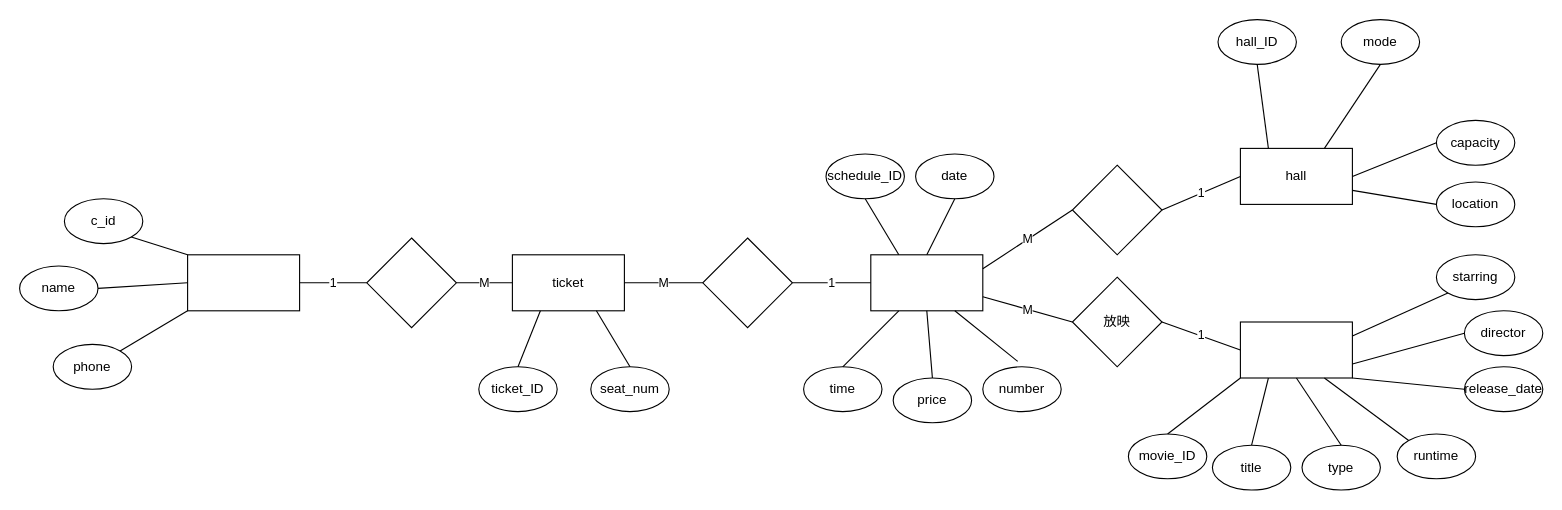
The diagram is 1562 pixels wide and 510 high, and some of its shapes have lost their labels. The centre of each missing label's shape, as x and y in pixels:
"Customer" goes at point 243,282.
"movie" goes at point 1295,349.
"schedule" goes at point 926,282.
"安排" goes at point 1116,209.
"拥有" goes at point 747,282.
"购买" goes at point 411,282.
